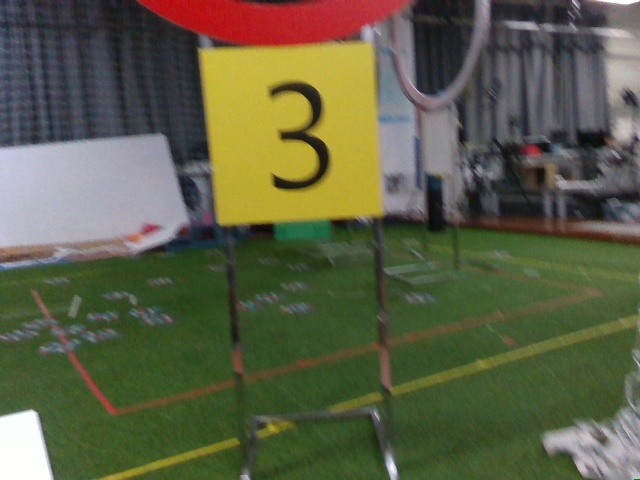target: (207, 52, 382, 218)
